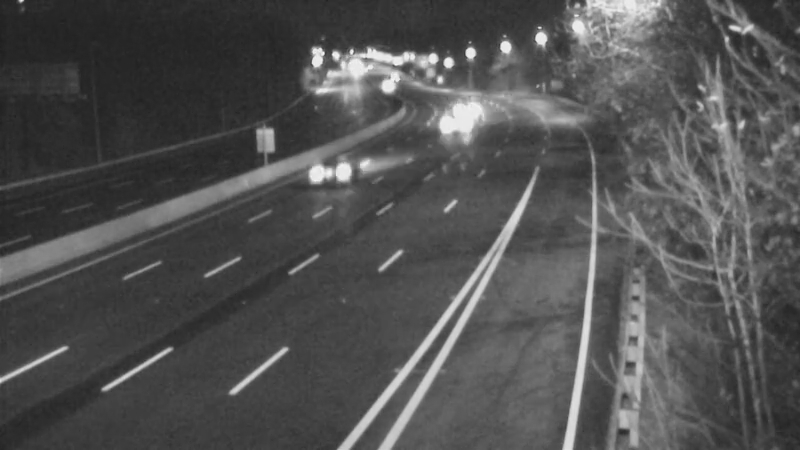vehicle: (287, 135, 367, 215), (438, 81, 488, 131), (434, 101, 484, 151)
